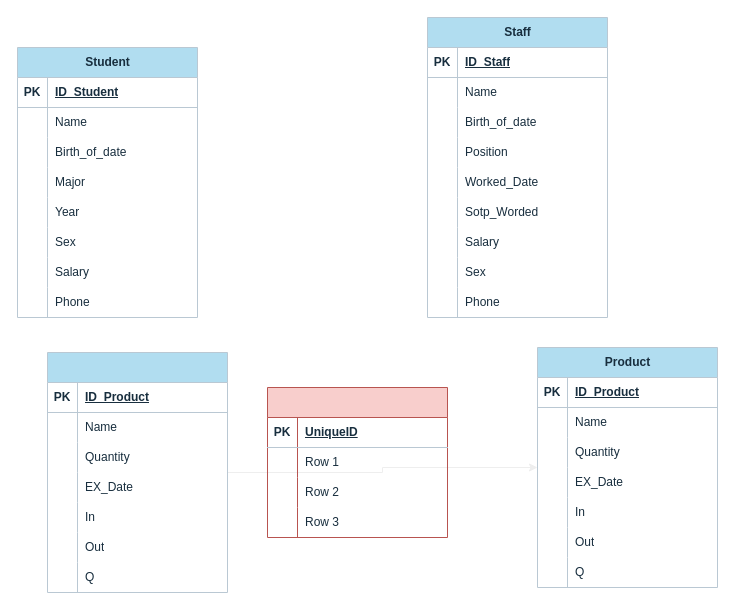
This 735x610 diagram has some shape labels left out. The shapes that lost their labels are listed below. From the top down, each one's box as (x1, y1, x2, y2) in pixels, then its label:
(46, 352, 228, 592): Stor
(266, 386, 448, 538): Table
